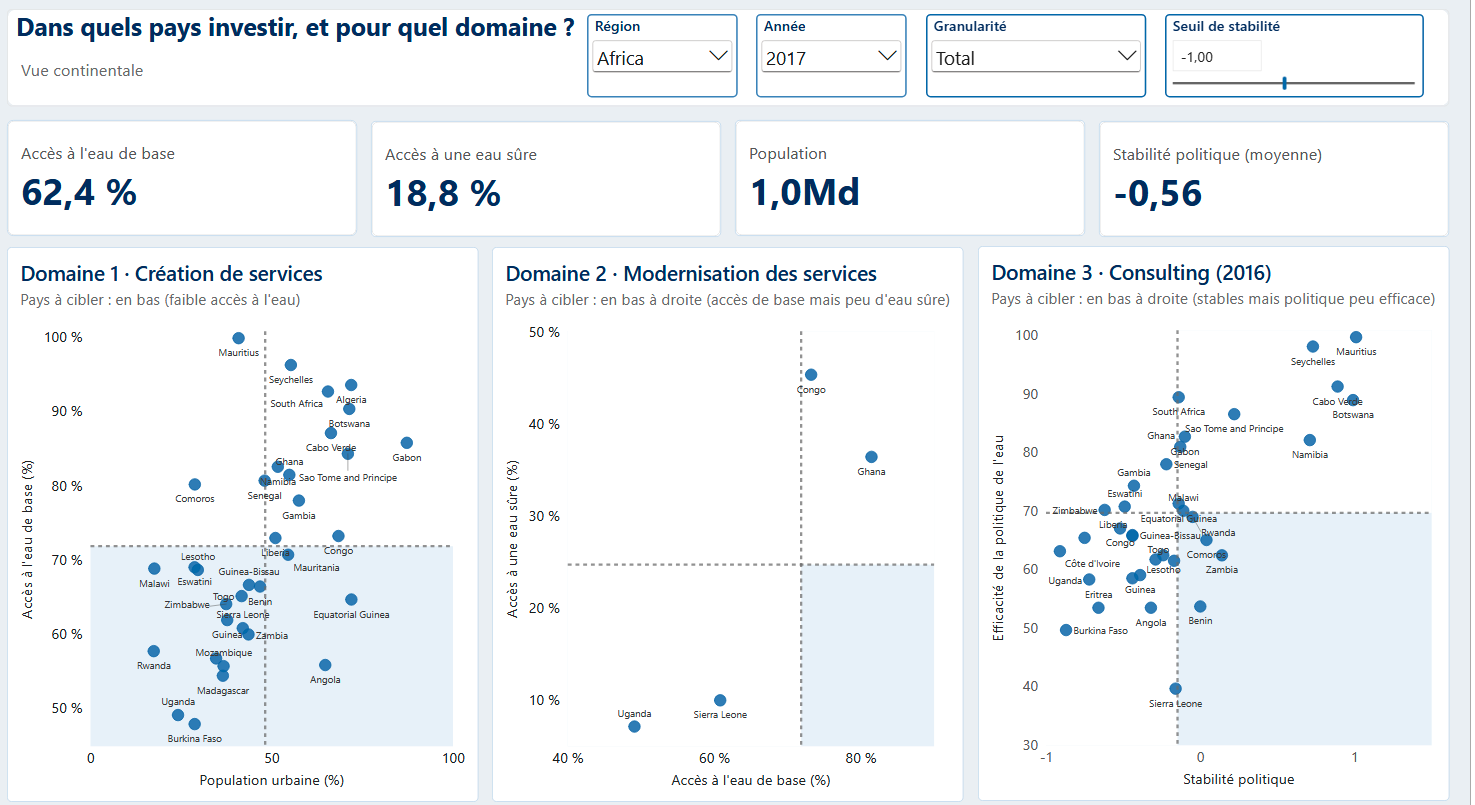

The dashboard page shown, as its layout file describes it:
{"tool":"powerbi","page":{"name":"Région","canvas":[1920,1080],"ordinal":1},"visuals":[{"type":"shape","box":[27.1,27,1866,126],"z":0},{"type":"cardVisual","title":"Accès à l''eau de base","fields":{"Data":["Eau.Acces eau base (%)"]},"box":[27,171,453,150],"z":1000},{"type":"slicer","title":"Année","fields":{"Values":["Annee.Year"]},"box":[996.7,33.3,195,108.3],"z":2000},{"type":"cardVisual","title":"Population","fields":{"Data":["Population.Population totale"]},"box":[969,171,453,150],"z":3000},{"type":"slicer","fields":{"Values":["Seuil stabilite.Seuil stabilite"]},"box":[1525,33.3,335,108.3],"z":4000},{"type":"cardVisual","title":"Stabilité politique( moyenne)","fields":{"Data":["Stabilite.Stabilite moyenne"]},"box":[1440,171.7,453,150],"z":5000},{"type":"cardVisual","title":"Accès à une eau sûre","fields":{"Data":["Eau.Acces eau sure (%)"]},"box":[498,171.7,453,150],"z":7000},{"type":"slicer","title":"Granularité","fields":{"Values":["Eau.Granularity"]},"box":[1216.7,33.3,285,108.3],"z":8000},{"type":"scatterChart","title":"Domaine 1 · Création de services","fields":{"Category":["Pays.Country"],"X":["Population.Part urbaine (%)"],"Y":["Eau.Acces eau base (%)"]},"box":[27,335,610,718],"z":9000},{"type":"textbox","box":[38.2,27,728.8,98.8],"z":10000},{"type":"scatterChart","title":"Domaine 3 · Consulting (2016)","fields":{"Category":["Pays.Country"],"X":["Stabilite.Stabilite 2016"],"Y":["Eau.Efficacite 2016"]},"box":[1283,334.4,610,718],"z":11000},{"type":"textbox","box":[45,90,678.3,51.7],"z":12000},{"type":"scatterChart","title":"Domaine 2 · Modernisation des services","fields":{"Category":["Pays.Country"],"X":["Eau.Acces eau base (%)"],"Y":["Eau.Acces eau sure (%)"]},"box":[655.2,335,610,718],"z":13000},{"type":"slicer","title":"Région","fields":{"Values":["Pays.Region"]},"box":[777.5,33.8,195,108.3],"z":14000}]}

Visuals, with their boxes on the page's 1920x1080 design canvas (x1, y1, x2, y2). These are canvas units, not pixel positions in the 1475x805 screenshot, which may show the page scaled, cropped or inside an application window:
shape: (27,27,1893,153)
"Accès à l''eau de base" cardVisual: (27,171,480,321)
"Année" slicer: (997,33,1192,142)
"Population" cardVisual: (969,171,1422,321)
slicer - Seuil stabilite.Seuil stabilite: (1525,33,1860,142)
"Stabilité politique( moyenne)" cardVisual: (1440,172,1893,322)
"Accès à une eau sûre" cardVisual: (498,172,951,322)
"Granularité" slicer: (1217,33,1502,142)
"Domaine 1 · Création de services" scatterChart: (27,335,637,1053)
textbox: (38,27,767,126)
"Domaine 3 · Consulting (2016)" scatterChart: (1283,334,1893,1052)
textbox: (45,90,723,142)
"Domaine 2 · Modernisation des services" scatterChart: (655,335,1265,1053)
"Région" slicer: (778,34,972,142)
